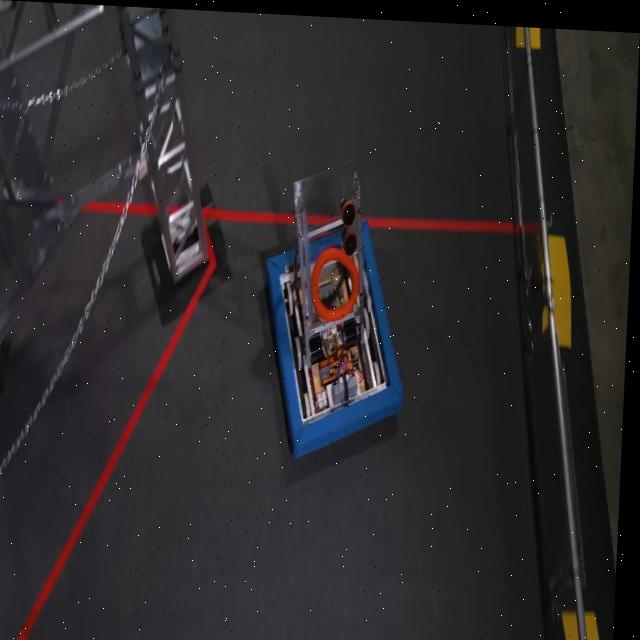note: (311, 244, 363, 319)
robot: (258, 151, 414, 461)
